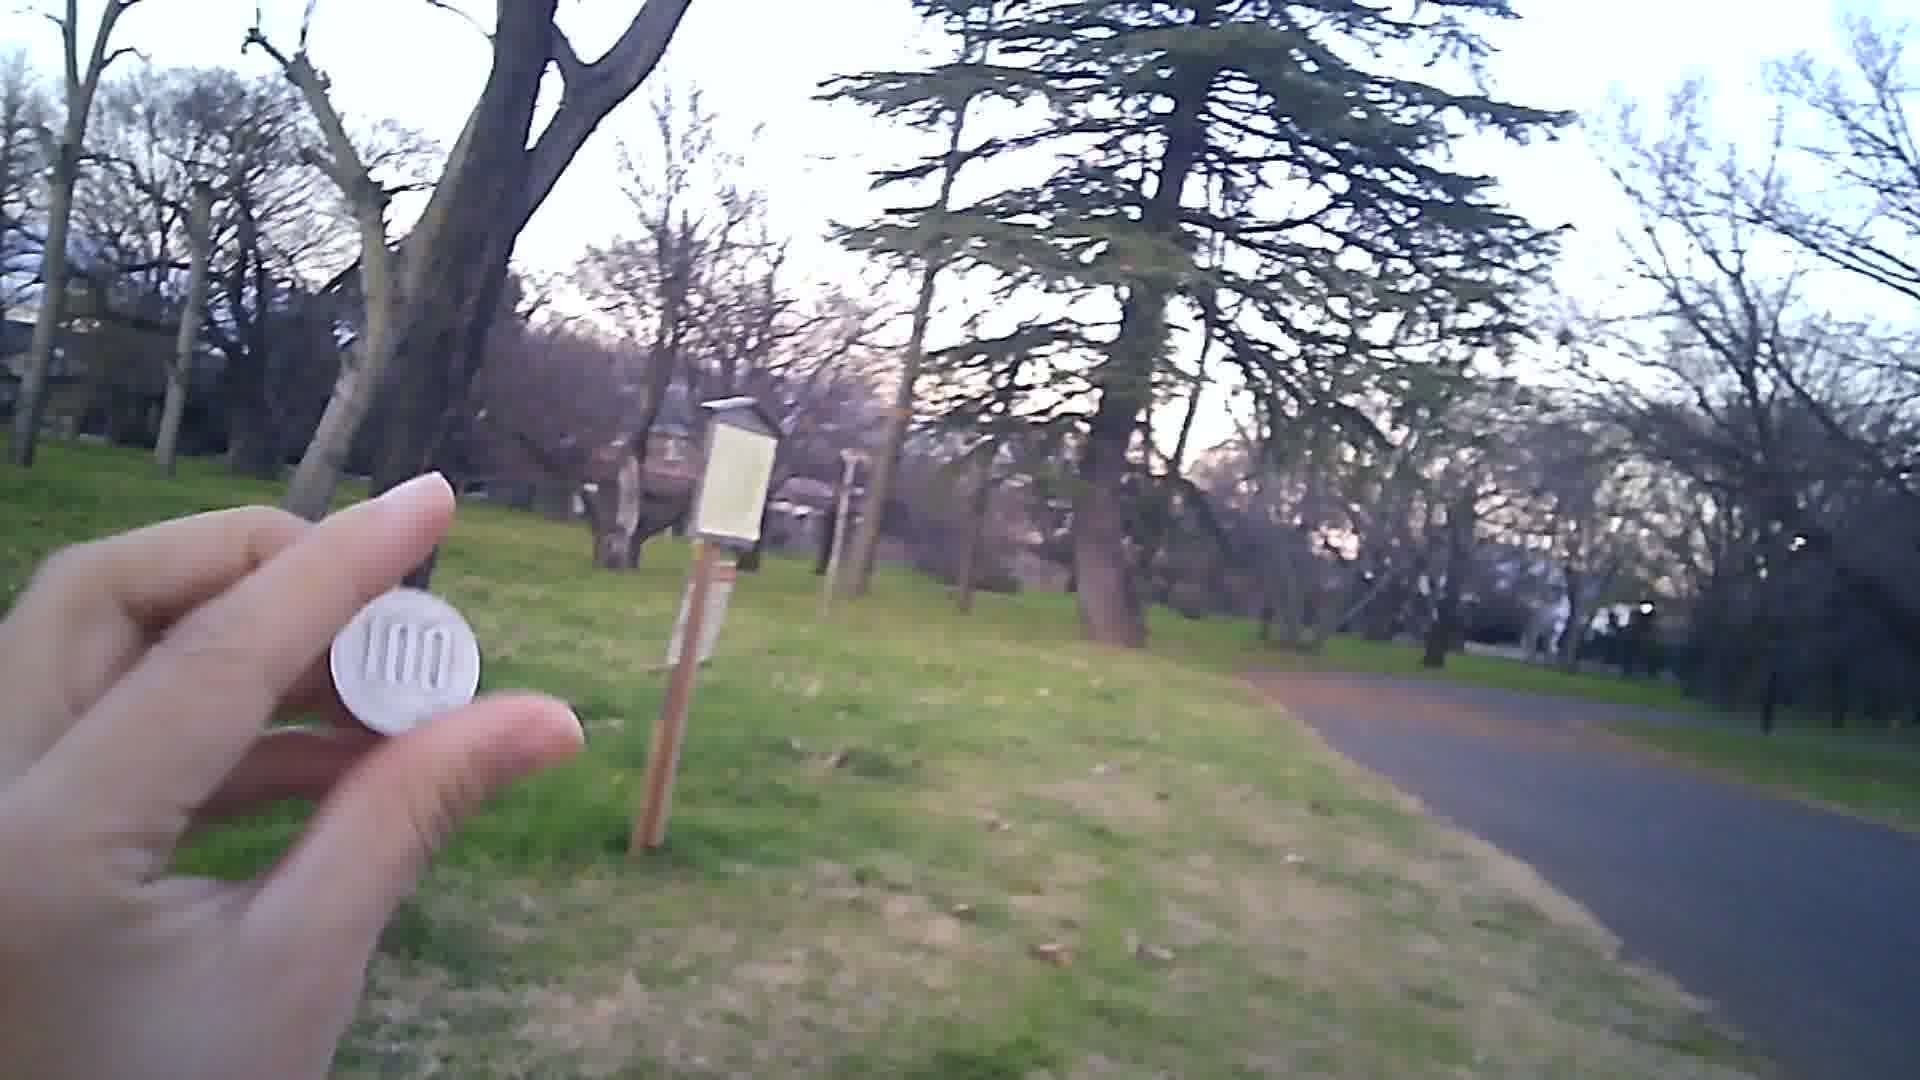100 Yen: (324, 588, 487, 742)
